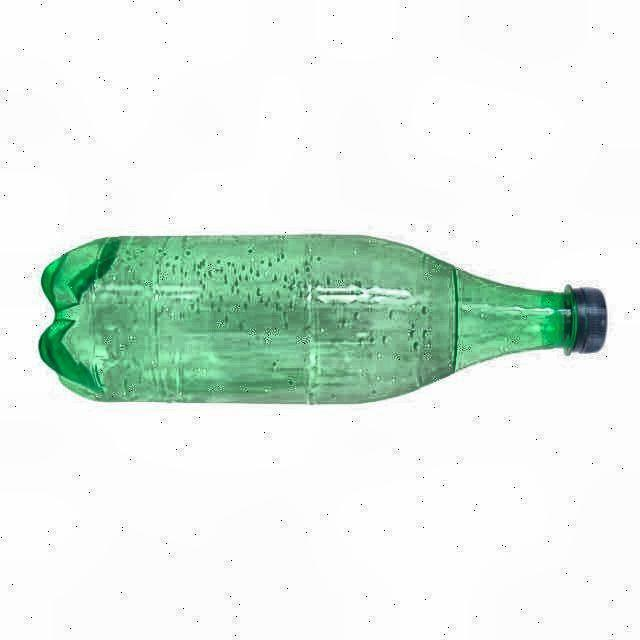plastic: (40, 235, 606, 401)
